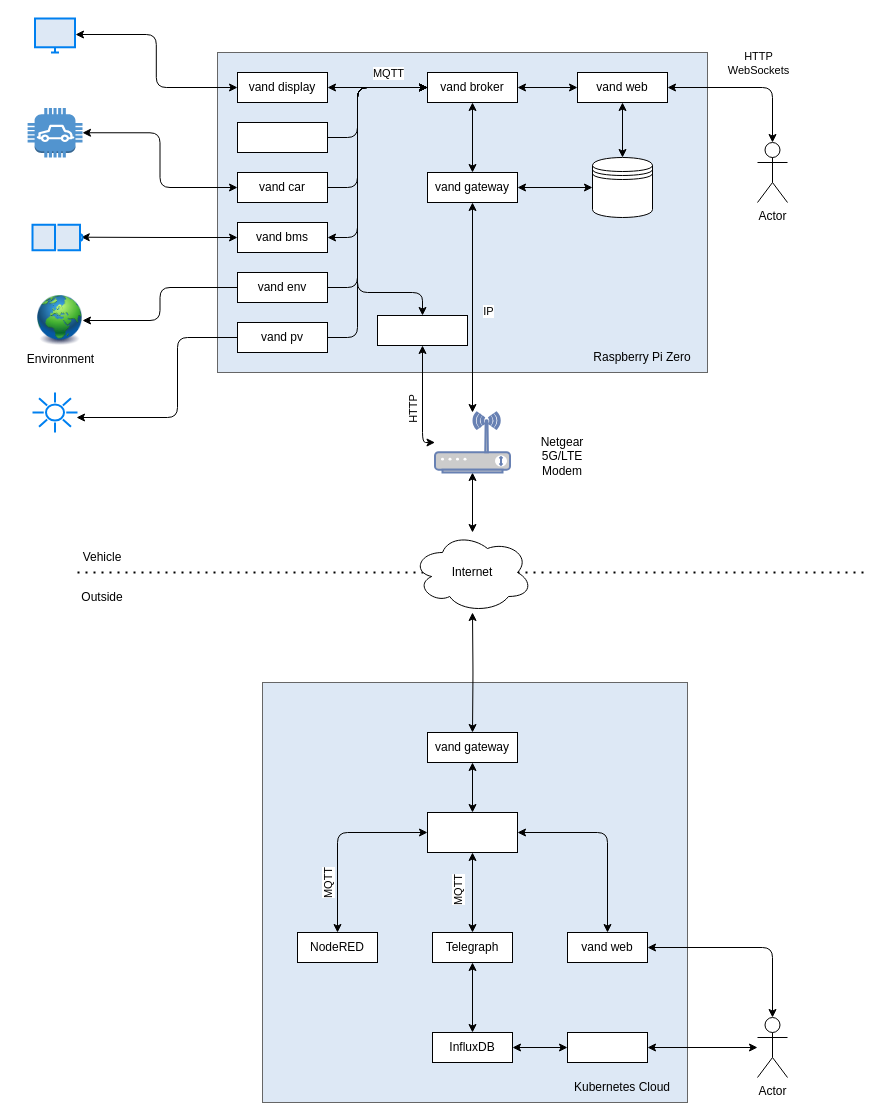
Some shapes in this 886 by 1120 pixel diagram are drawn without their labels. The centre of each missing label's shape, as x and y in pixels:
Battery: [57,237]
BoltDB Store: [622,187]
External Broker: [472,832]
Graphana: [607,1047]
OBD2 Port: [54,132]
OLED Display: [55,35]
PV Inverter: [54,412]
vand gps: [282,137]
vand modem: [422,330]
